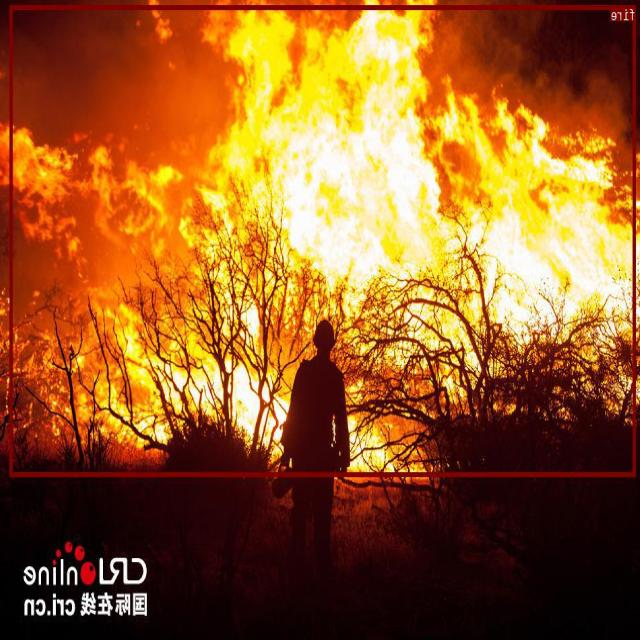fire: (11, 4, 636, 476)
